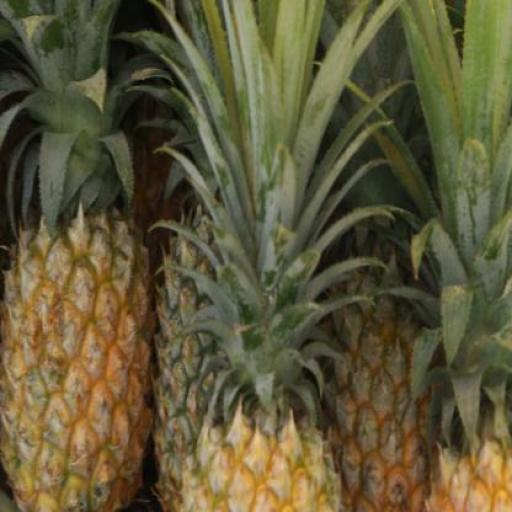------------------------------: (0, 206, 145, 510)
Pineapple - v8 v1: (182, 374, 342, 512)
